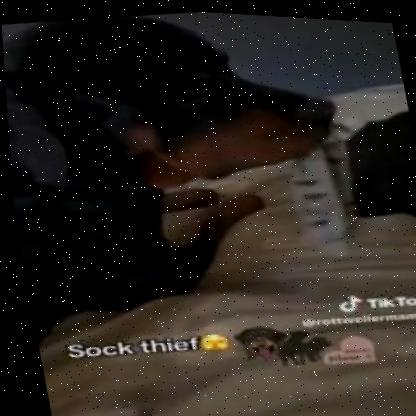dog: (0, 0, 380, 357)
